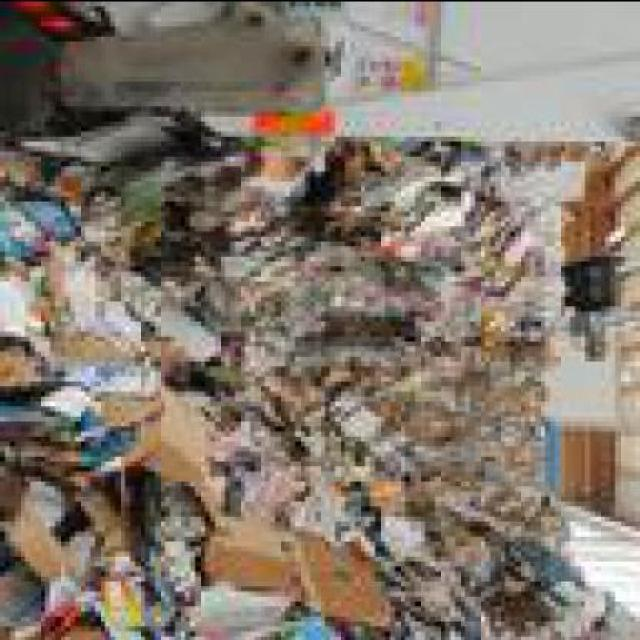CARDBOARD: (230, 355, 550, 540), (340, 146, 585, 354), (5, 150, 146, 390), (355, 534, 640, 638), (210, 156, 345, 356), (5, 465, 146, 620), (209, 530, 400, 635), (4, 365, 164, 480), (140, 151, 255, 280), (235, 460, 410, 531), (140, 399, 229, 530), (149, 480, 222, 638), (120, 270, 225, 375), (5, 576, 157, 638), (210, 580, 302, 638)
